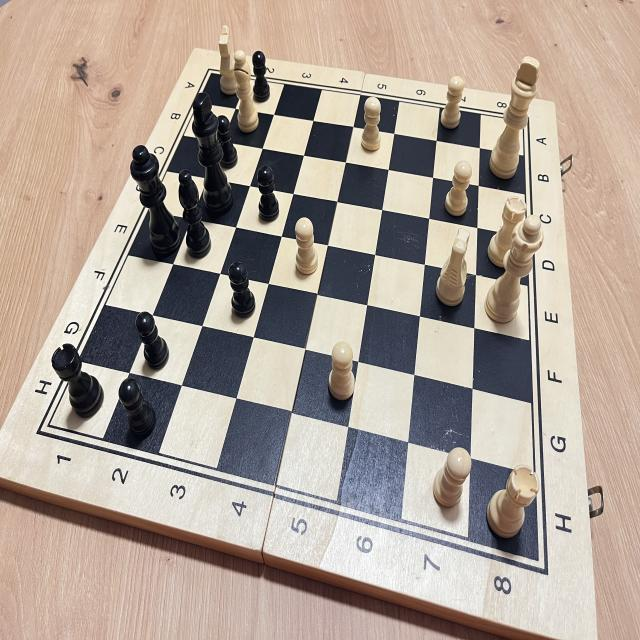black-bishop: (170, 165, 218, 266)
black-king: (186, 89, 240, 222)
black-pawn: (118, 371, 163, 444), (224, 257, 266, 327), (132, 306, 173, 376), (252, 160, 285, 230), (210, 110, 242, 176), (250, 43, 278, 107)
black-queen: (122, 140, 185, 256)
black-rook: (49, 338, 109, 423)
white-bishop: (225, 44, 262, 136)
white-king: (485, 45, 541, 191)
white-knight: (430, 226, 472, 314), (212, 17, 247, 102)
white-pawn: (429, 442, 475, 516), (324, 336, 362, 412), (286, 211, 323, 284), (439, 156, 476, 222), (354, 91, 389, 158), (434, 70, 469, 136)
white-queen: (486, 212, 548, 332)
white-rook: (481, 461, 544, 559), (485, 190, 532, 276)
